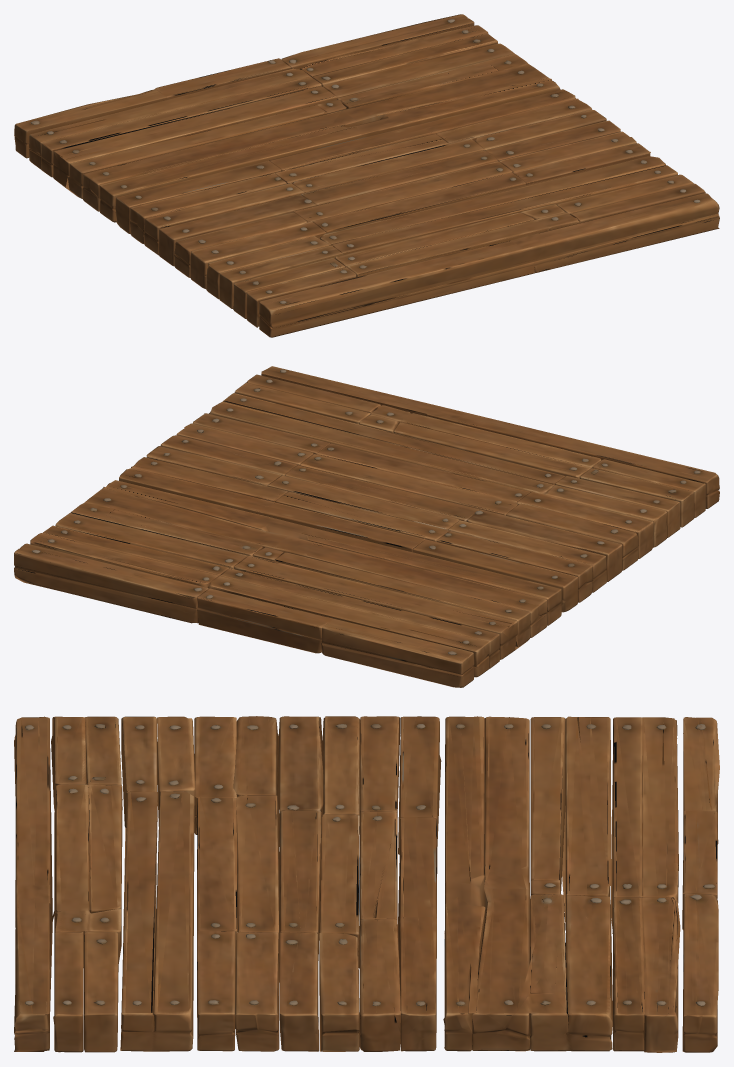
The model's file is floor.glb.
3 views of the same model, one above another, from view 1: azimuth 30°, elevation 25°; view 2: azimuth 150°, elevation 25°; view 3: azimuth 270°, elevation 25° (orthographic). The views are drawn at different scales.
Parts seen in each view (by area): view 1: geometry_0; view 2: geometry_0; view 3: geometry_0.
Boxes of the visible parts, x1,y1,x2,y2 form: geometry_0: (14, 14, 719, 337); geometry_0: (14, 366, 719, 687); geometry_0: (14, 716, 719, 1052).
Bounding box in the file's own units: 0.9521 × 0.061 × 0.9497.
1 material, 1 textured.
